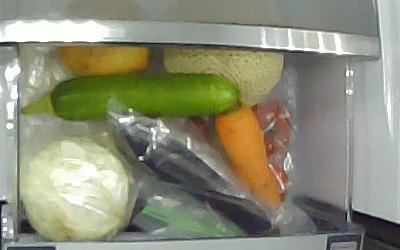cabbage_vinyl: (19, 135, 130, 241)
carrot: (213, 104, 280, 207)
eggplant_vinyl: (106, 109, 281, 237)
melon: (161, 45, 284, 107)
pear: (54, 45, 150, 76)
tomato_vinyl: (249, 97, 293, 158)
zucchini: (19, 72, 240, 121)
